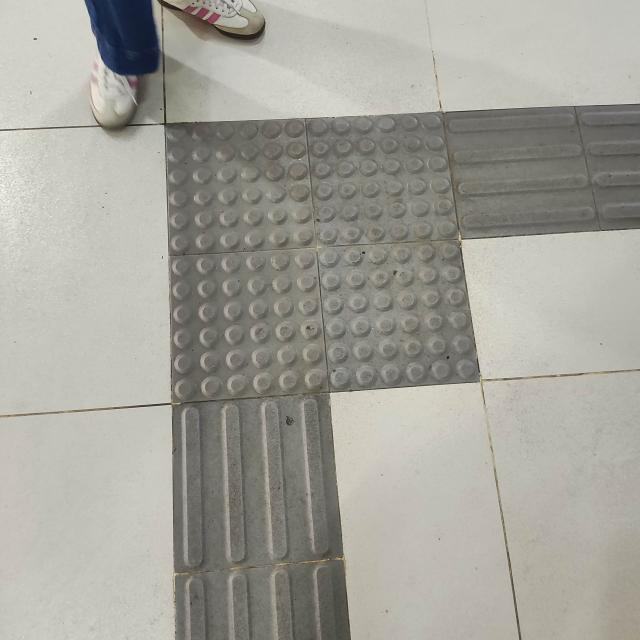kanan: (73, 74, 640, 479)
